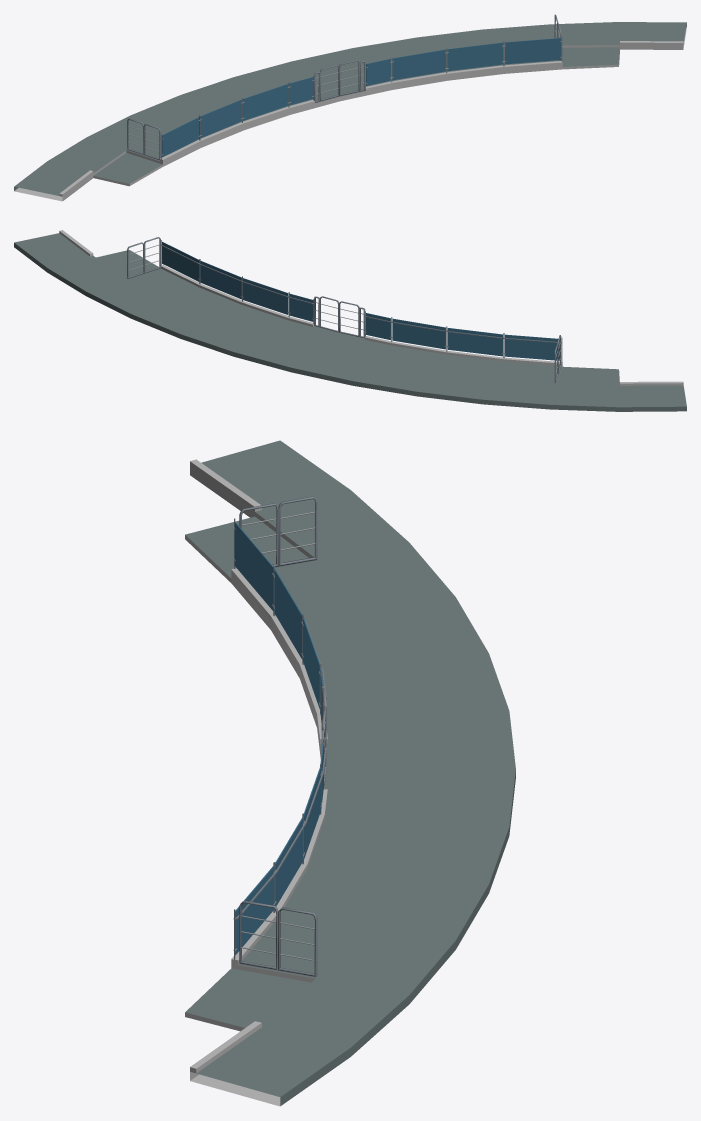
File: MCM_2F_003.fbx
3 views of the same model, one above another, from view 1: azimuth 30°, elevation 25°; view 2: azimuth 150°, elevation 25°; view 3: azimuth 270°, elevation 25° (orthographic). The views are drawn at different scales.
Parts seen in each view (by area): view 1: MCM_2F_003; view 2: MCM_2F_003; view 3: MCM_2F_003.
Boxes of the visible parts, left/top/right/bottom form: MCM_2F_003: left=14, top=14, right=686, bottom=201; MCM_2F_003: left=14, top=230, right=686, bottom=411; MCM_2F_003: left=185, top=440, right=515, bottom=1106.
Bounding box in the file's own units: 30.13 × 6.42 × 1.56.
3 materials, 3 textured.
